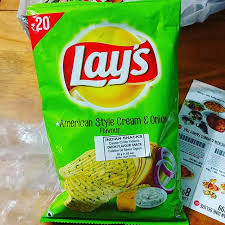lays-med: (25, 4, 187, 225)
